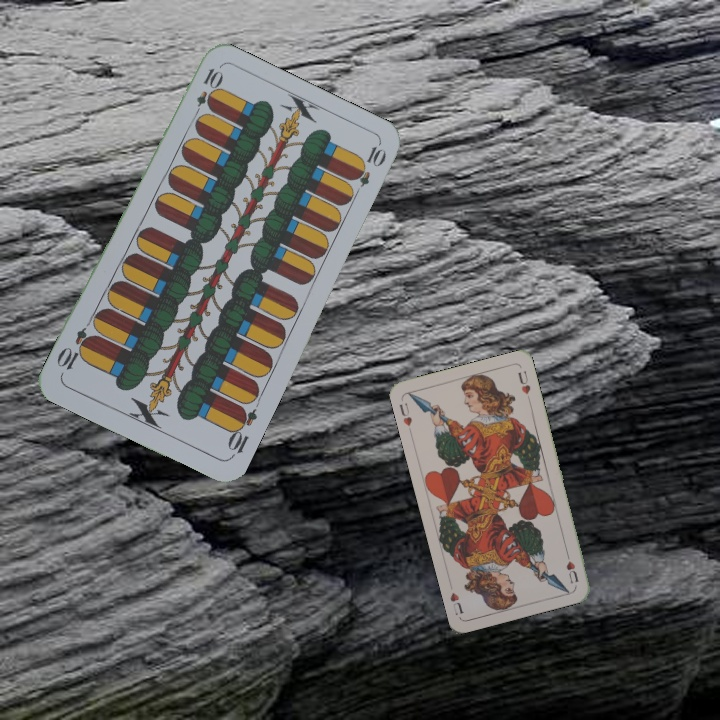E10: (223, 402, 260, 461), (189, 64, 224, 121)
HU: (562, 547, 581, 586), (395, 399, 414, 429)
